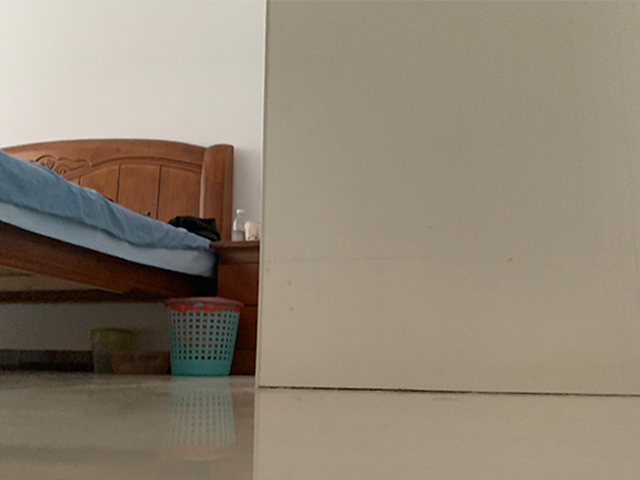bed: (1, 138, 235, 306)
cabinet: (210, 239, 260, 377)
trashcan: (163, 296, 244, 378)
